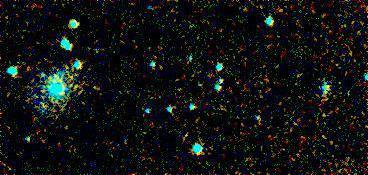star: (36, 61, 66, 91)
